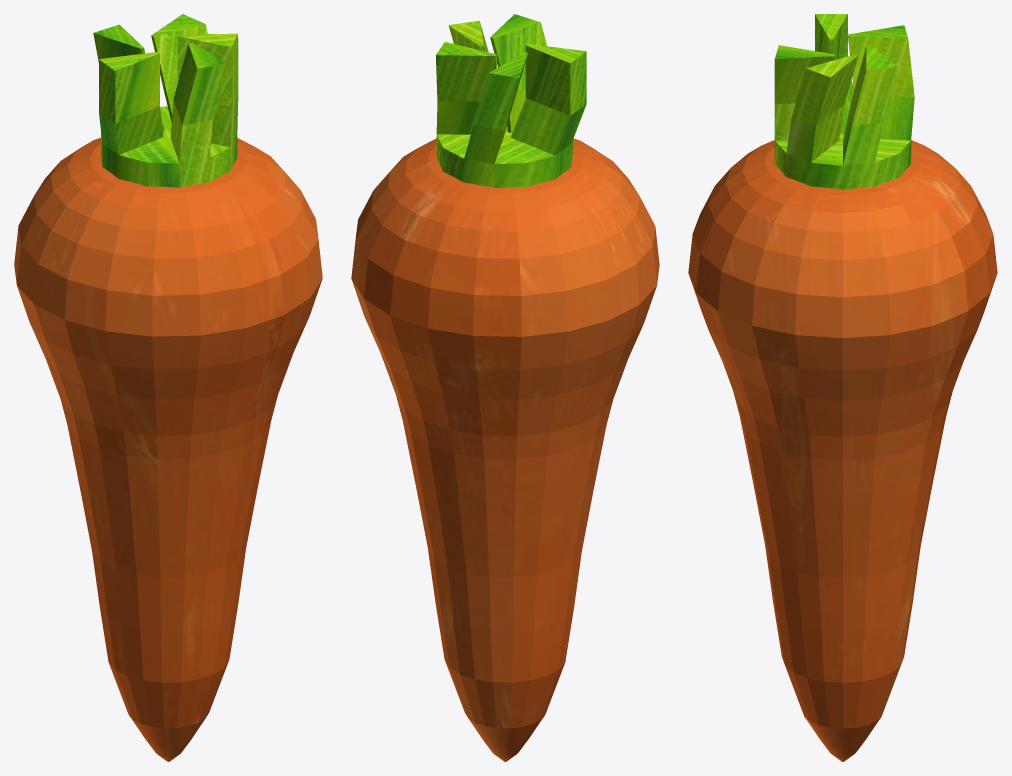
Rendered from Carrot Thingy 1.fbx.
The picture shows the model from 3 angles, left to right: view 1: azimuth 30°, elevation 25°; view 2: azimuth 150°, elevation 25°; view 3: azimuth 270°, elevation 25°; orthographic projection.
Visible parts, largest first — view 1: polySurface1; view 2: polySurface1; view 3: polySurface1.
Boxes of the visible parts, x1,y1,x2,y2 form: polySurface1: [14, 14, 322, 761]; polySurface1: [351, 14, 659, 761]; polySurface1: [688, 14, 997, 761].
Size of the model in its own units: 1.7 by 4.33 by 1.7.
Materials: 2 (2 with a texture image).
